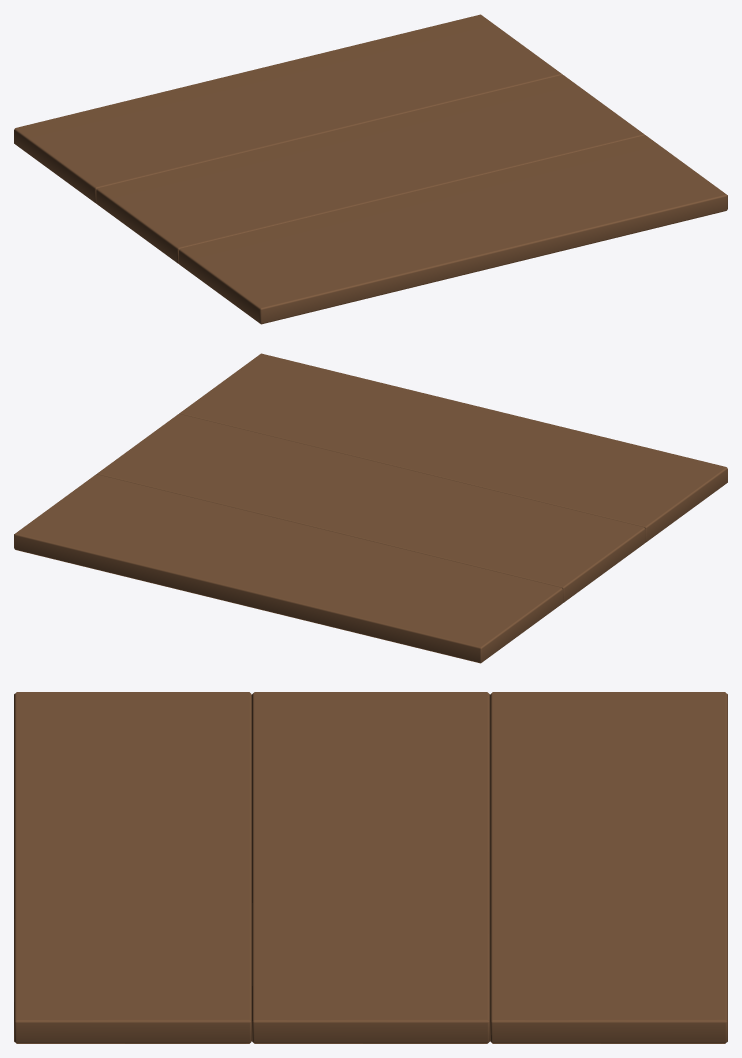
The model's file is Floor_1.glb.
The picture shows the model from 3 angles, top to bottom: view 1: azimuth 30°, elevation 25°; view 2: azimuth 150°, elevation 25°; view 3: azimuth 270°, elevation 25°; orthographic projection. The views are drawn at different scales.
Parts seen in each view (by area): view 1: Floor_1; view 2: Floor_1; view 3: Floor_1.
Part boxes in pixels (x1=…): Floor_1: x1=14, y1=14, x2=727, y2=324; Floor_1: x1=14, y1=353, x2=727, y2=663; Floor_1: x1=14, y1=692, x2=727, y2=1043.
Size of the model in its own units: 4.6 by 0.1573 by 4.21.
Materials: 1 (1 with a texture image).
